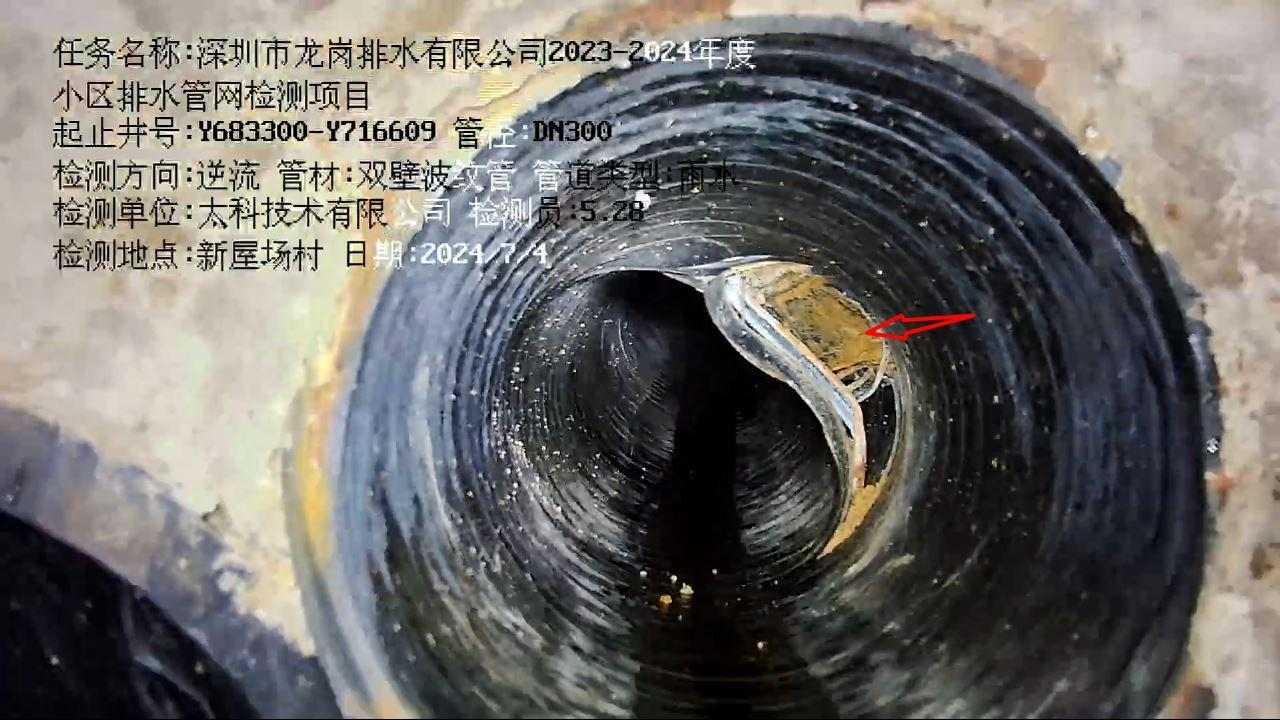PL: (661, 242, 941, 576)
